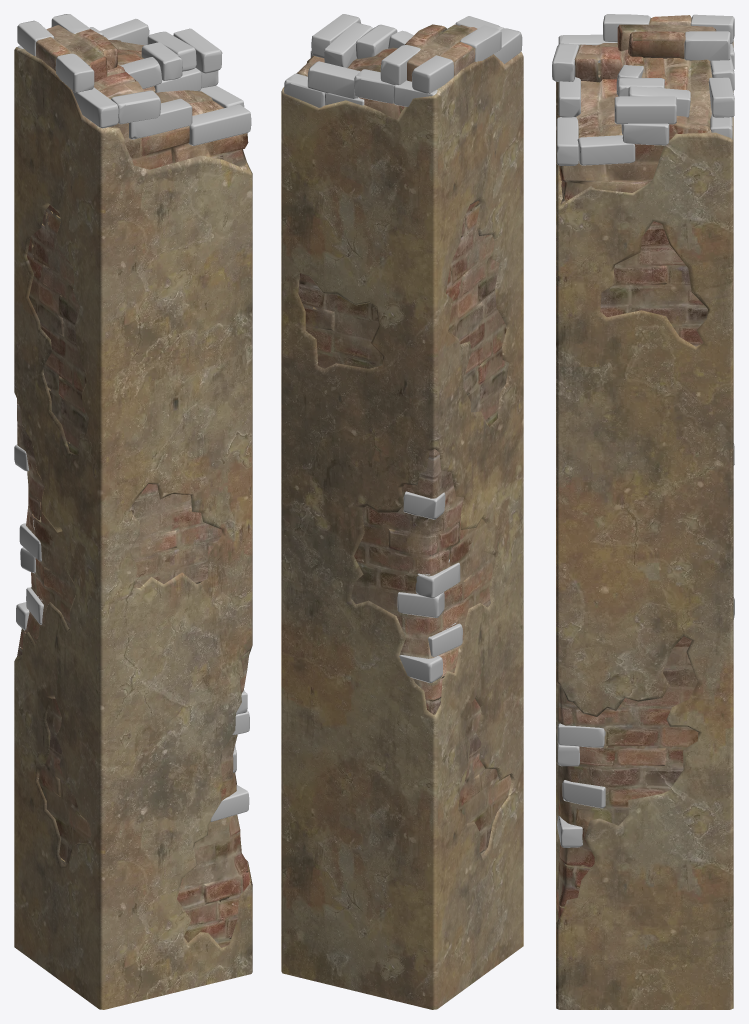
The picture shows the model from 3 angles, left to right: view 1: azimuth 30°, elevation 25°; view 2: azimuth 150°, elevation 25°; view 3: azimuth 270°, elevation 25°; orthographic projection.
Parts seen in each view (by area): view 1: SM_Human_Ruins_Pllar_Dmg_01_LOD0; view 2: SM_Human_Ruins_Pllar_Dmg_01_LOD0; view 3: SM_Human_Ruins_Pllar_Dmg_01_LOD0.
Boxes of the visible parts, left/top/right/bottom form: SM_Human_Ruins_Pllar_Dmg_01_LOD0: left=14, top=14, right=252, bottom=1009; SM_Human_Ruins_Pllar_Dmg_01_LOD0: left=281, top=14, right=523, bottom=1009; SM_Human_Ruins_Pllar_Dmg_01_LOD0: left=552, top=14, right=734, bottom=1009.
Bounding box in the file's own units: 1.03 × 5.75 × 1.03.
